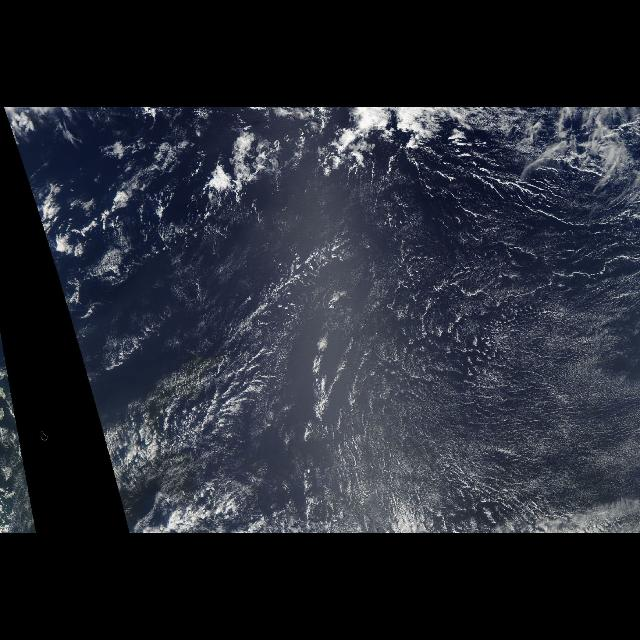Sugar: (51, 179, 639, 533)
